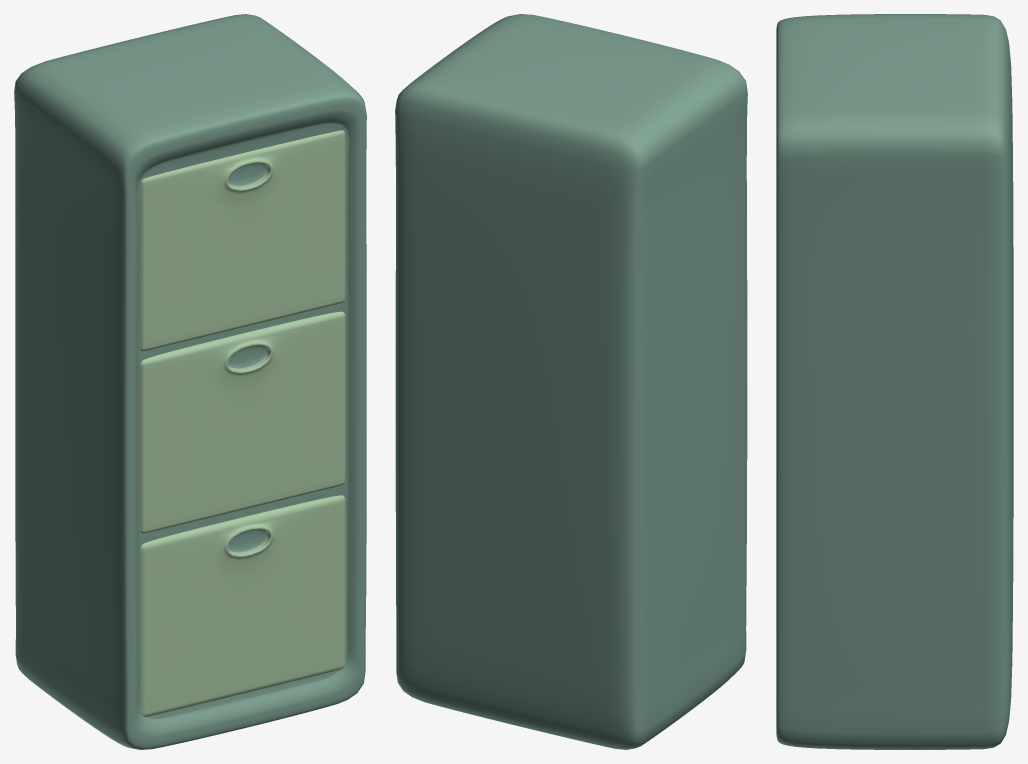
Rendered from filing cabinet done.fbx.
The picture shows the model from 3 angles, left to right: view 1: azimuth 30°, elevation 25°; view 2: azimuth 150°, elevation 25°; view 3: azimuth 270°, elevation 25°; orthographic projection. The views are drawn at different scales.
Parts seen in each view (by area): view 1: polySurface5; view 2: polySurface5; view 3: polySurface5.
Boxes of the visible parts, box(x1,y1,x2,y2) form: polySurface5: box(14, 14, 366, 749); polySurface5: box(395, 14, 747, 749); polySurface5: box(776, 14, 1013, 749).
Bounding box in the file's own units: 1.32 × 3.14 × 1.06.
